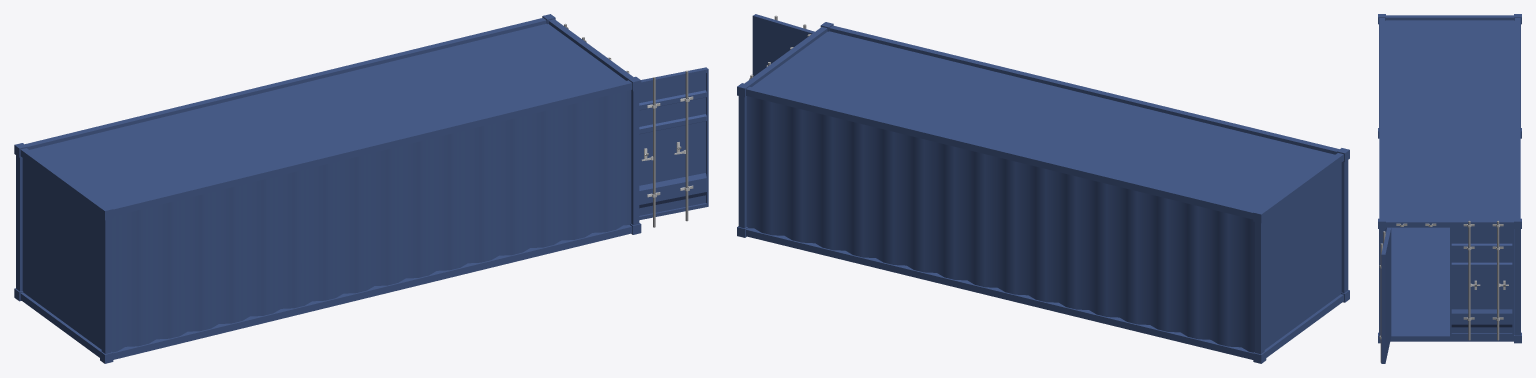
Rendered from container.fbx.
3 renders of one model, left to right at view 1: azimuth 30°, elevation 25°; view 2: azimuth 150°, elevation 25°; view 3: azimuth 270°, elevation 25°, orthographic. The views are drawn at different scales.
Parts seen in each view (by area): view 1: polySurface37; view 2: polySurface37; view 3: polySurface37.
Boxes of the visible parts, x1,y1,x2,y2 form: polySurface37: [14, 14, 708, 363]; polySurface37: [737, 14, 1349, 363]; polySurface37: [1378, 14, 1521, 363].
Bounding box in the file's own units: 1065 × 259 × 276.
2 materials, 1 textured.
